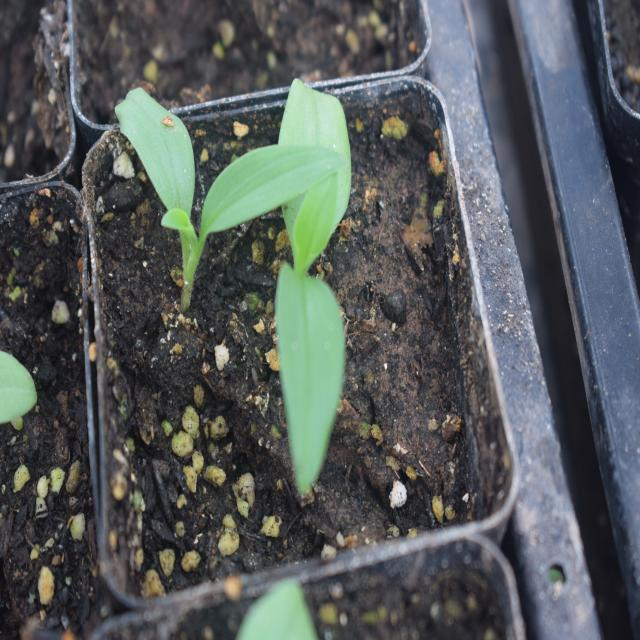Common Dayflower: (253, 62, 375, 473), (110, 72, 287, 261)
